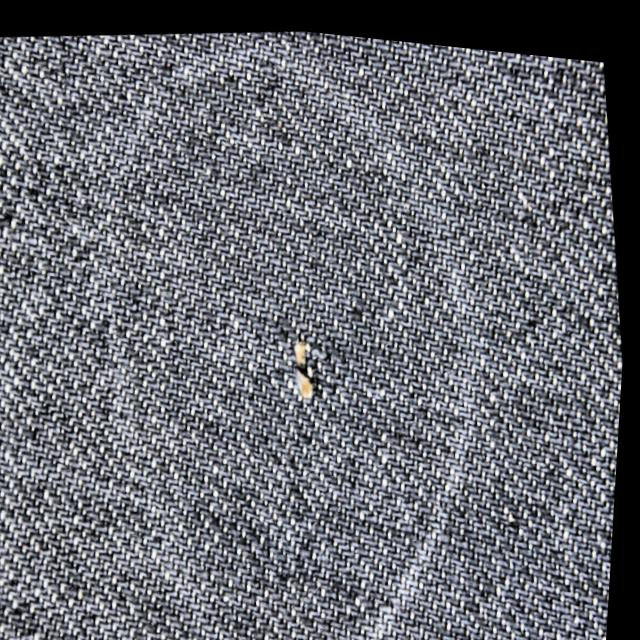Hole: (271, 290, 349, 424)
